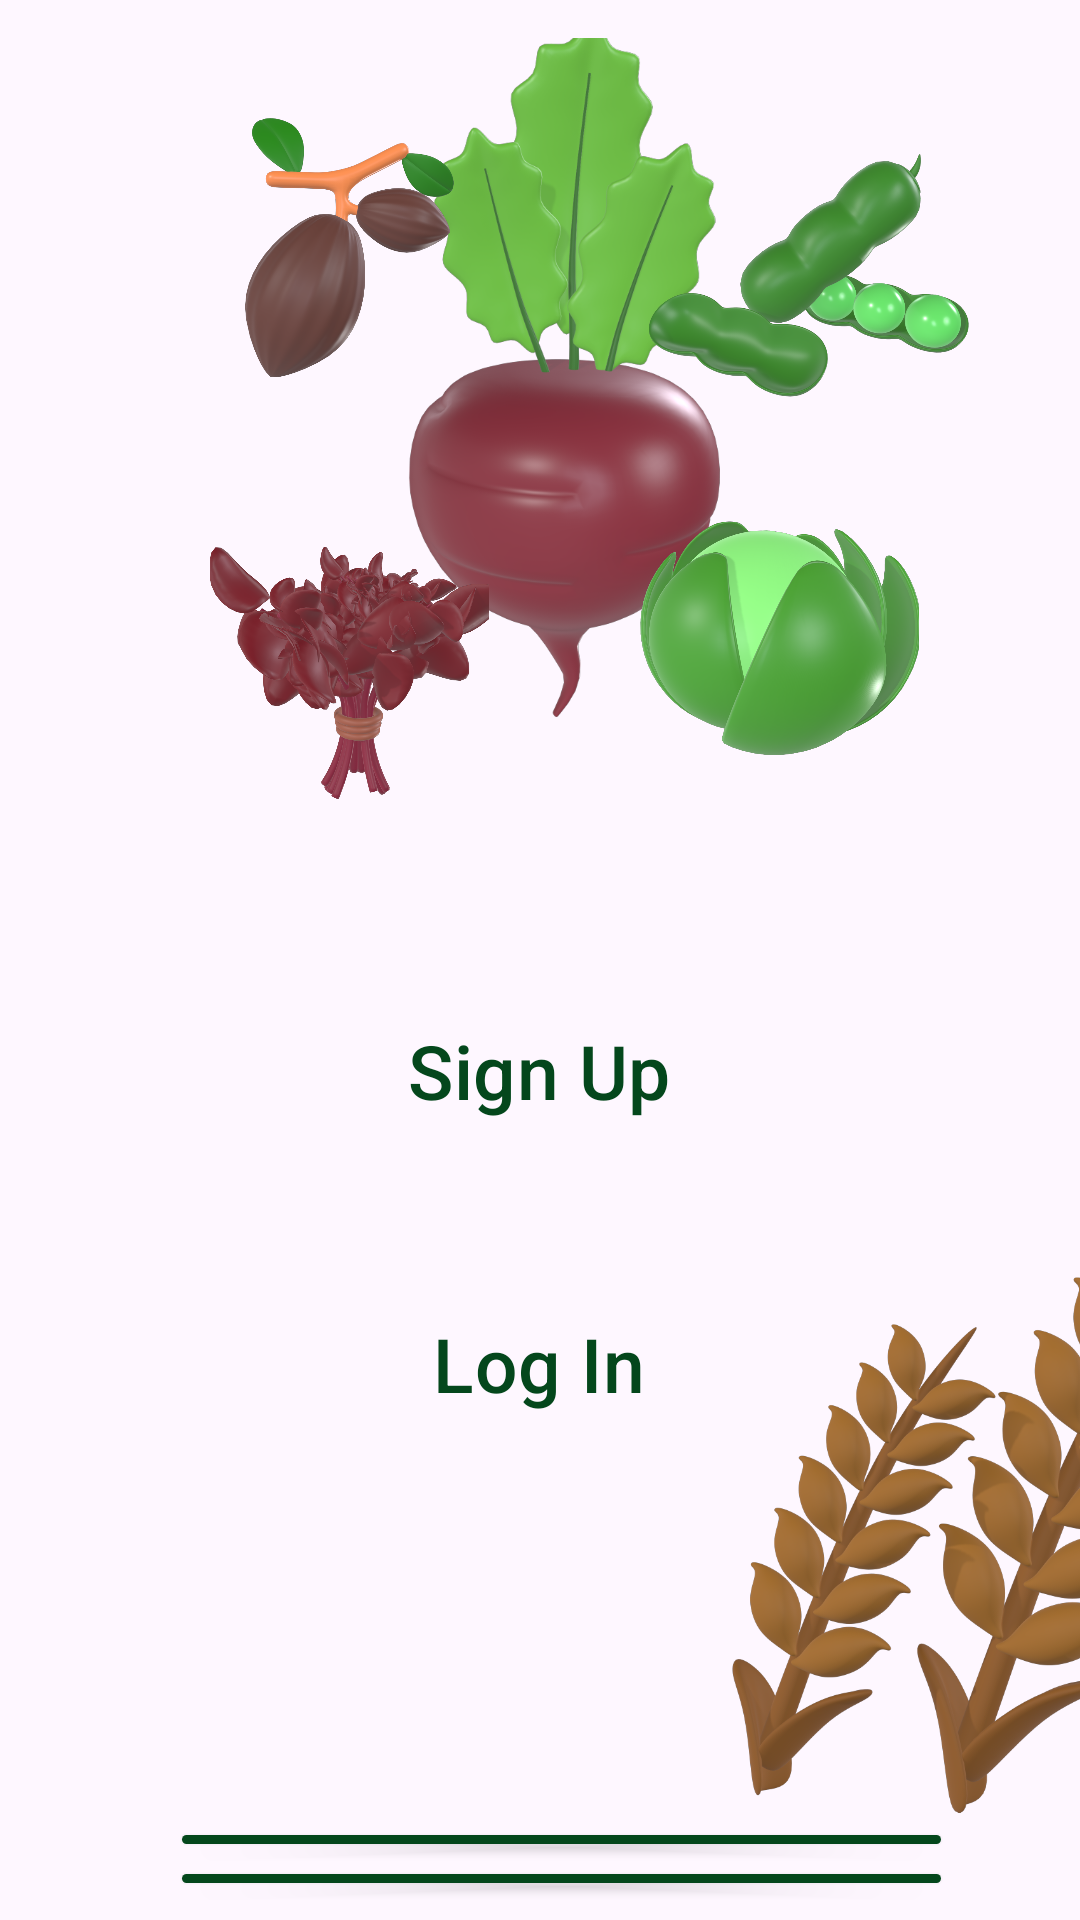

Locate icon controls on the screen. Image size 1080x1920, boxes as (x1, y1, x2, y2).
spinach: (210, 542, 507, 799)
